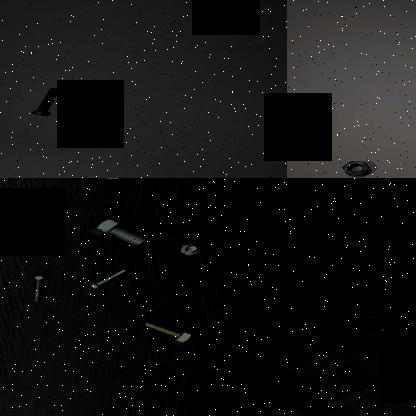Bolts: (83, 210, 155, 252), (143, 316, 200, 346), (29, 86, 66, 117), (88, 266, 132, 290), (57, 178, 125, 190), (30, 271, 54, 303), (177, 240, 203, 262), (141, 178, 175, 186)
NUTS: (332, 151, 382, 177), (291, 393, 339, 416), (353, 310, 397, 332), (344, 376, 374, 393)
